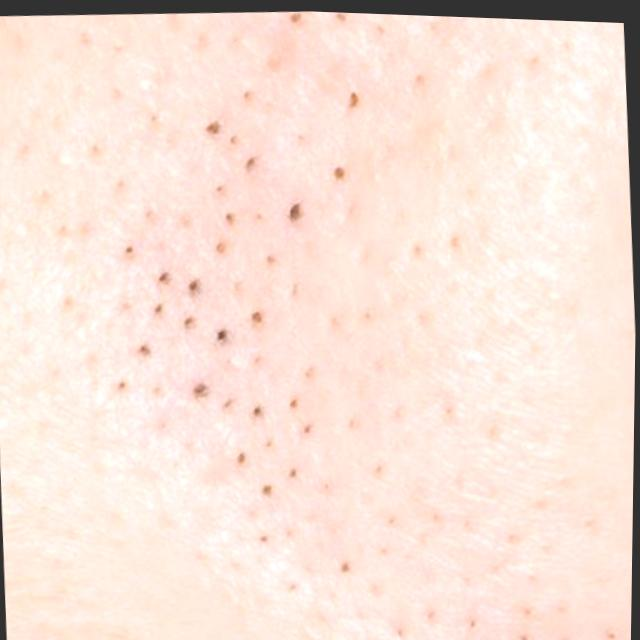blackhead: (57, 61, 390, 603)
